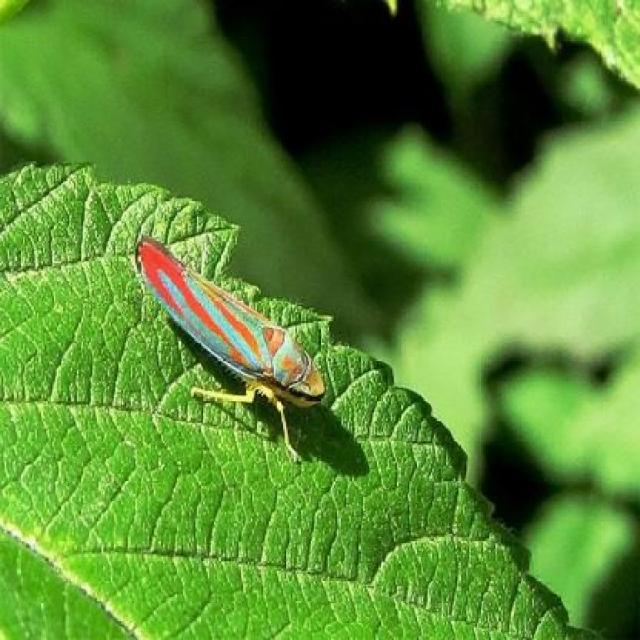green-leafhopper: (133, 237, 334, 421)
